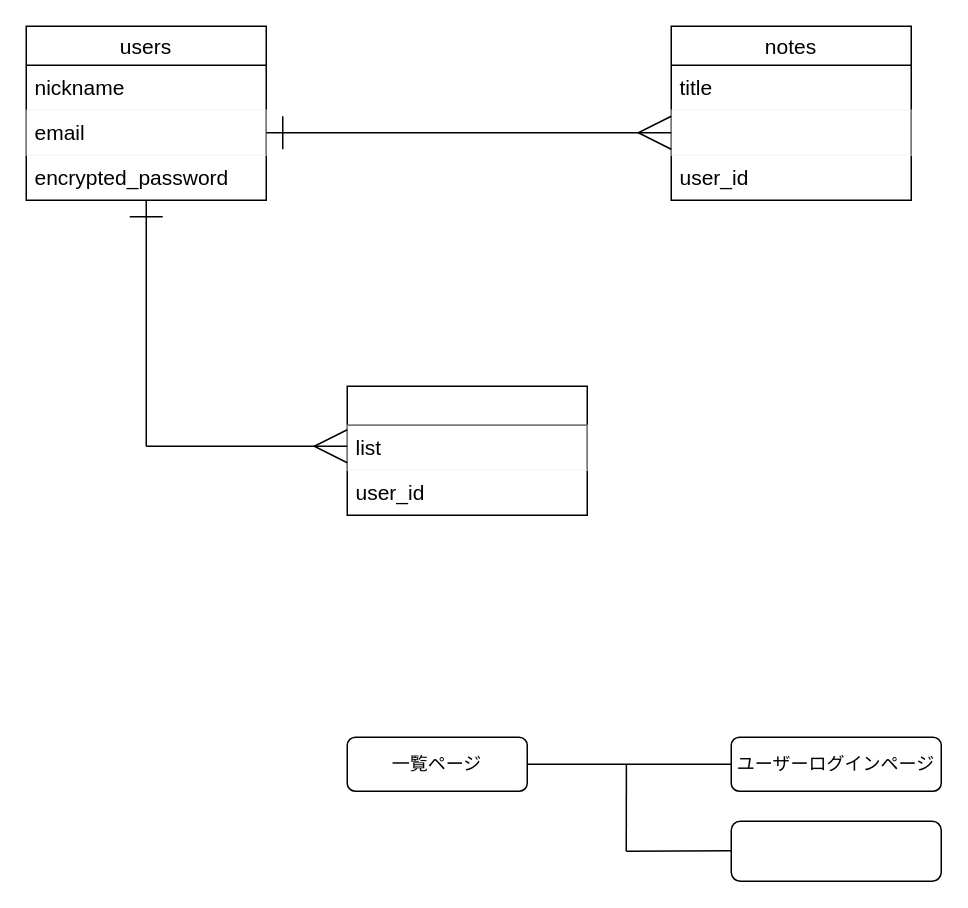
This 968x908 diagram has some shape labels left out. The shapes that lost their labels are listed below. From the top down, each one's box as (x1, y1, x2, y2) in pixels, then its label:
(670, 109, 911, 155): content
(346, 385, 587, 515): lists
(730, 820, 941, 881): ユーザー新規登録ページ
